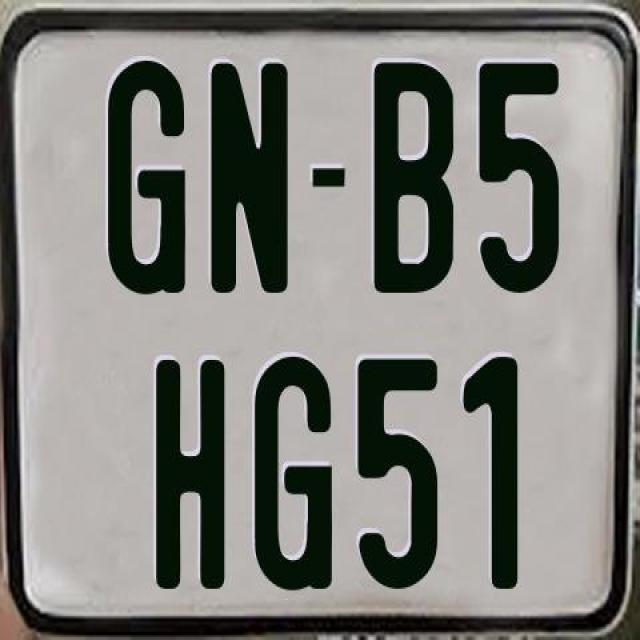1: (462, 357, 522, 596)
5: (357, 353, 440, 592), (477, 59, 559, 293)
B: (373, 63, 452, 294)
G: (106, 60, 192, 302), (252, 354, 332, 588)
H: (153, 358, 230, 594)
N: (207, 58, 290, 292)
